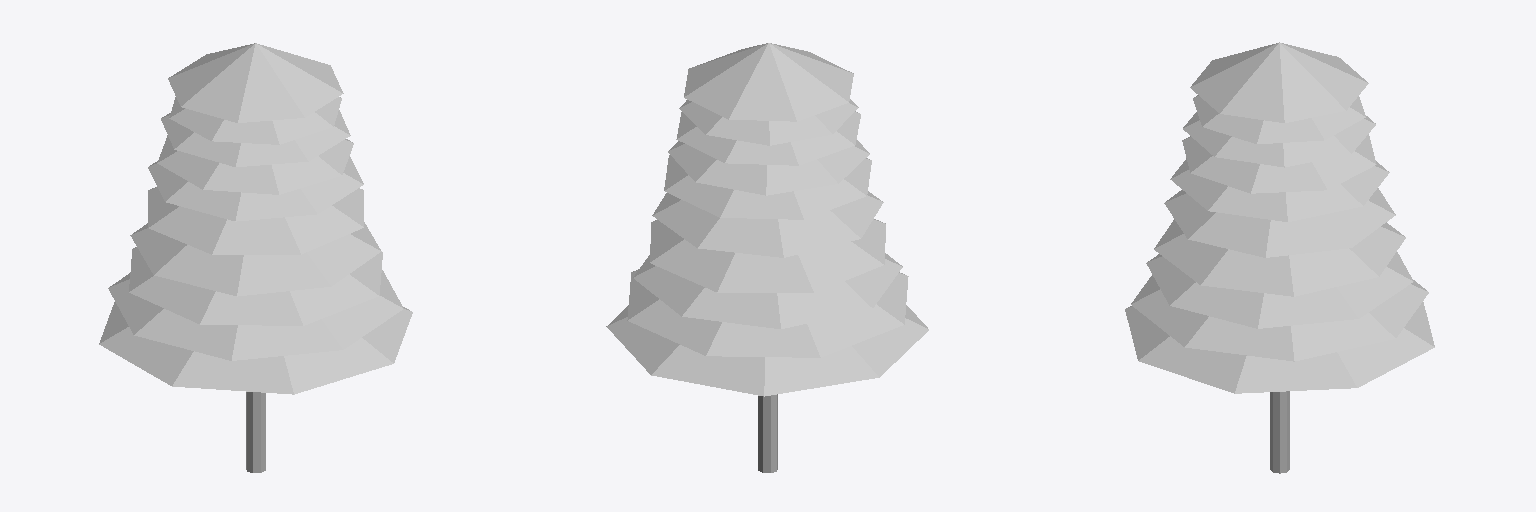
File: pine.obj
3 renders of one model, left to right at view 1: azimuth 30°, elevation 25°; view 2: azimuth 150°, elevation 25°; view 3: azimuth 270°, elevation 25°, orthographic.
Visible parts, largest first — view 1: Pine; view 2: Pine; view 3: Pine.
Boxes of the visible parts, x1,y1,x2,y2 form: Pine: [99, 43, 412, 472]; Pine: [606, 43, 928, 472]; Pine: [1125, 42, 1434, 473].
Size of the model in its own units: 2.68 by 4.06 by 2.68.